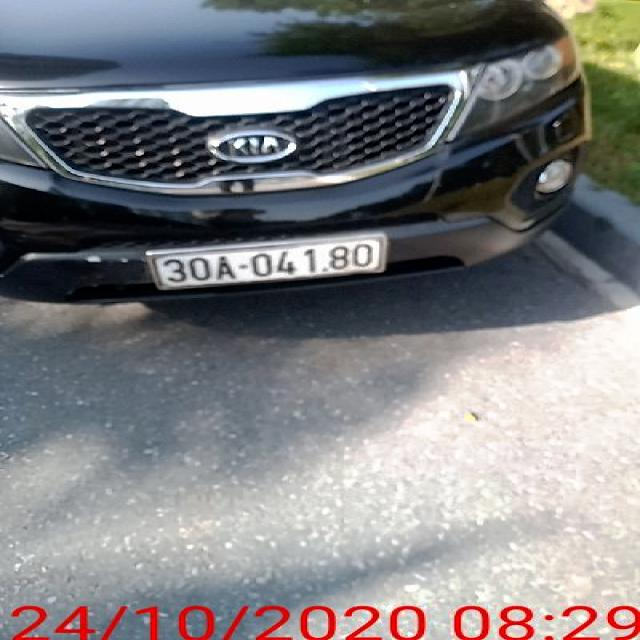license_plate: (147, 237, 390, 289)
